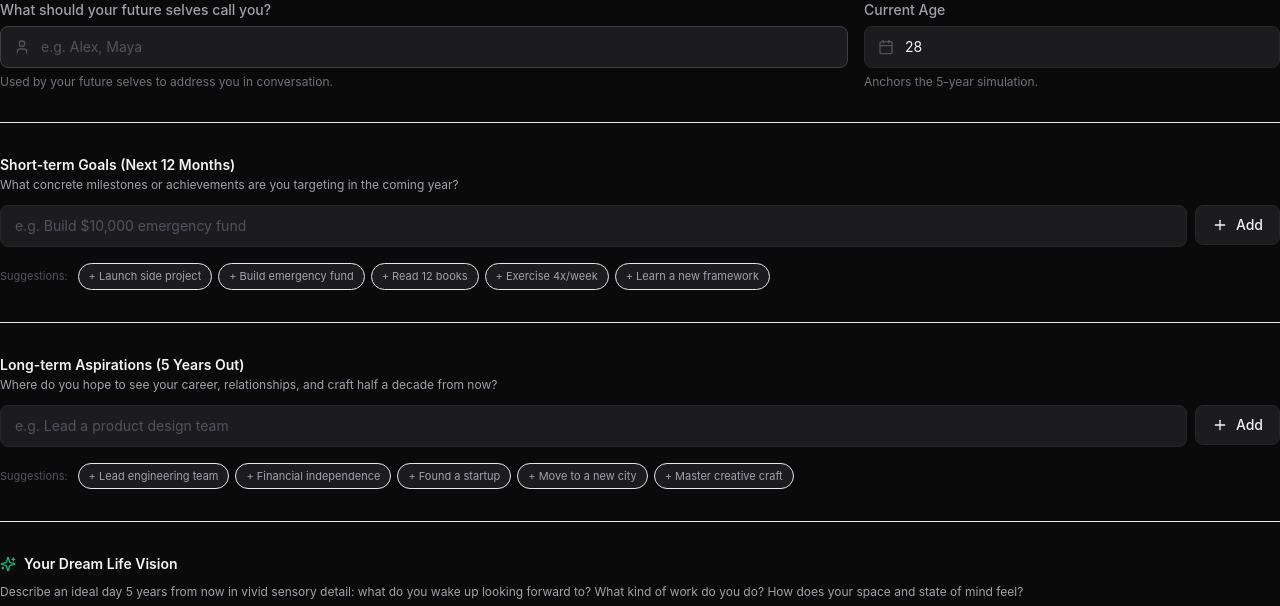
GoalsStep Component › adds short-term goals on enter key and clicking add button
This screenshot has width=1280, height=606.
Type "Run 10km weekly" into the field named "add short-term goal" at {"x": 593, "y": 226}, box [0, 205, 1187, 247]
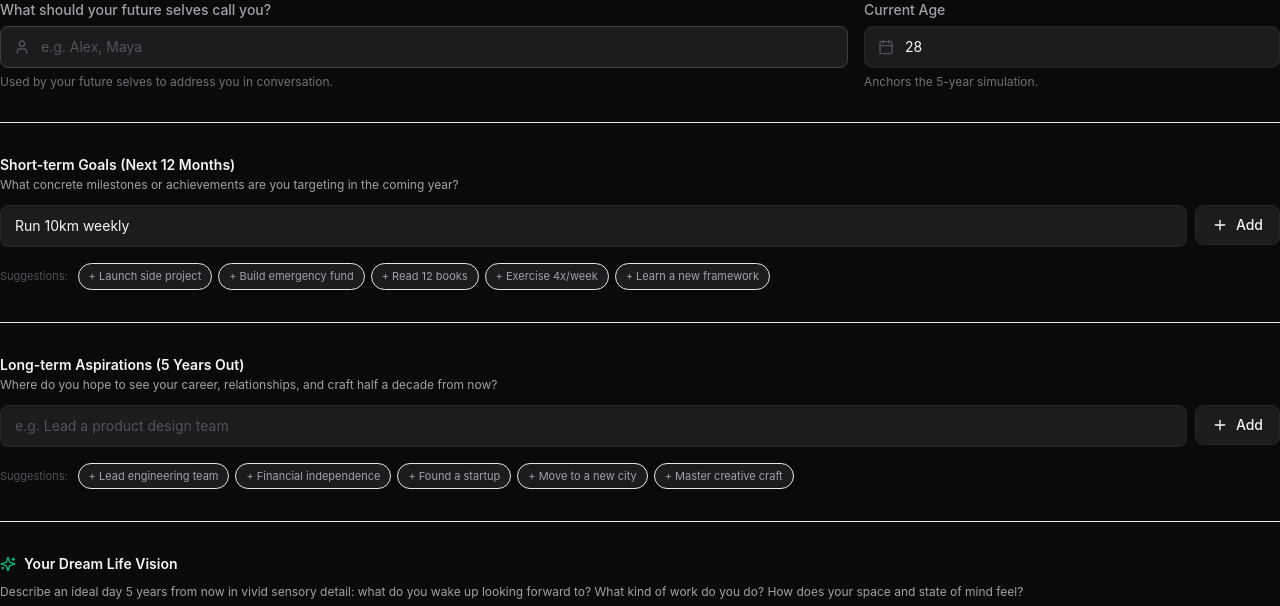
Click the button with aria-label "add short term goal to list" at {"x": 1237, "y": 225}, box [1195, 205, 1279, 245]
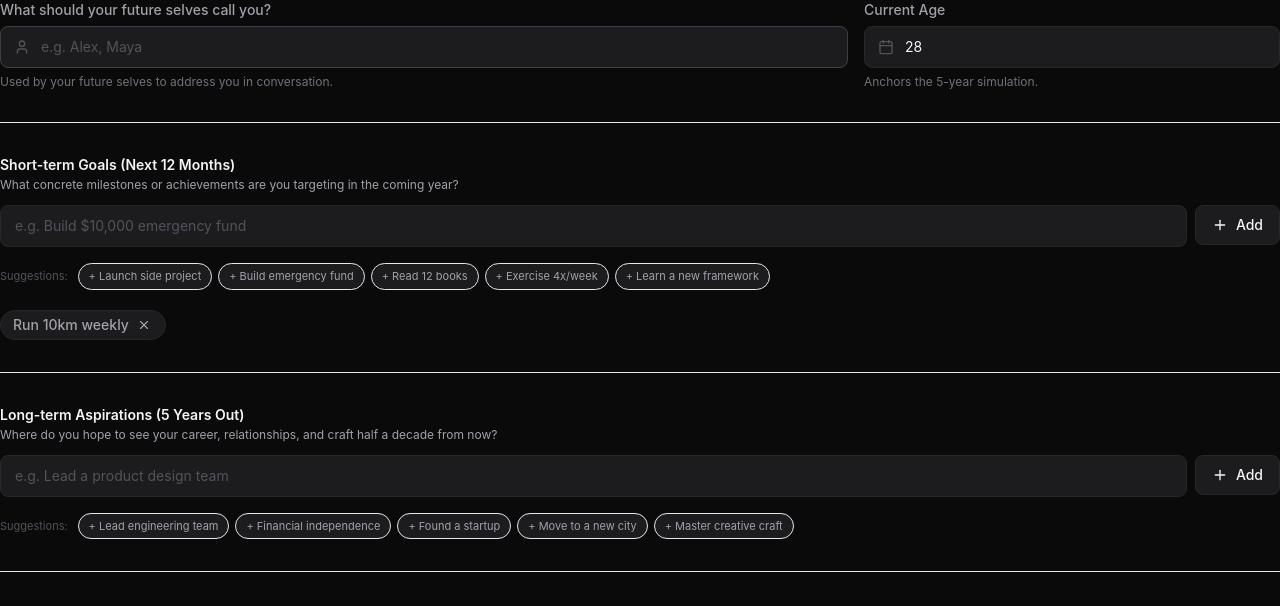
Expected: the text "Run 10km weekly" is shown, [13, 314, 129, 334]
Add with Enter key
Type "Read 20 books" into the field named "add short-term goal" at {"x": 593, "y": 226}, box [0, 205, 1187, 247]
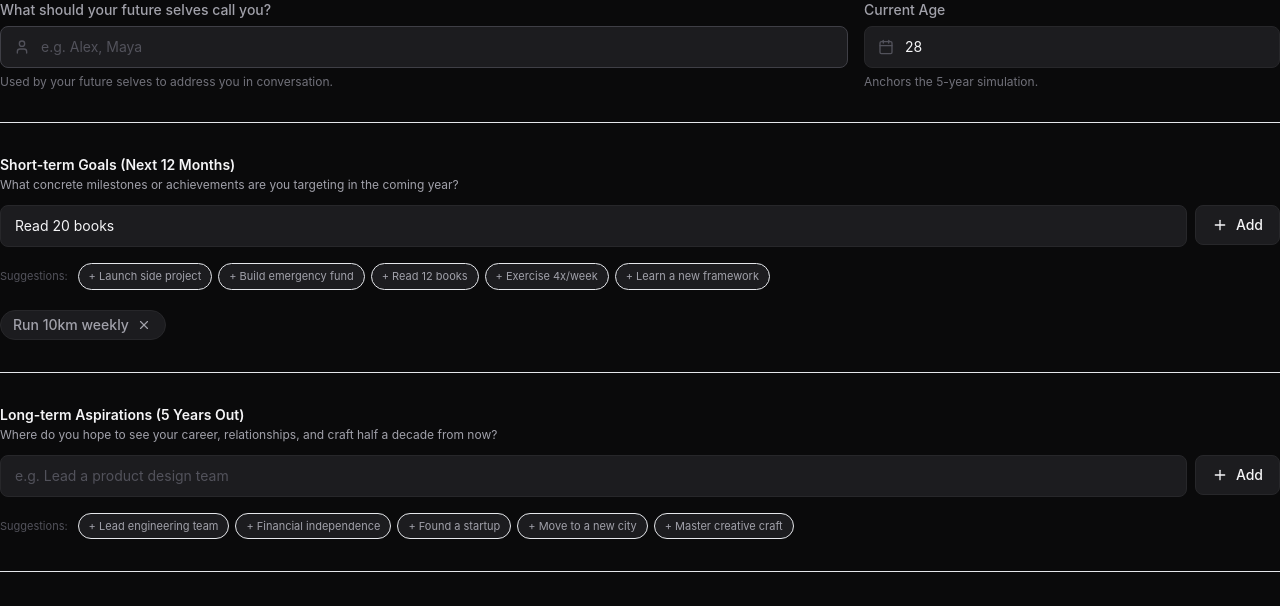
Press Enter in the field named "add short-term goal", box [0, 205, 1187, 247]
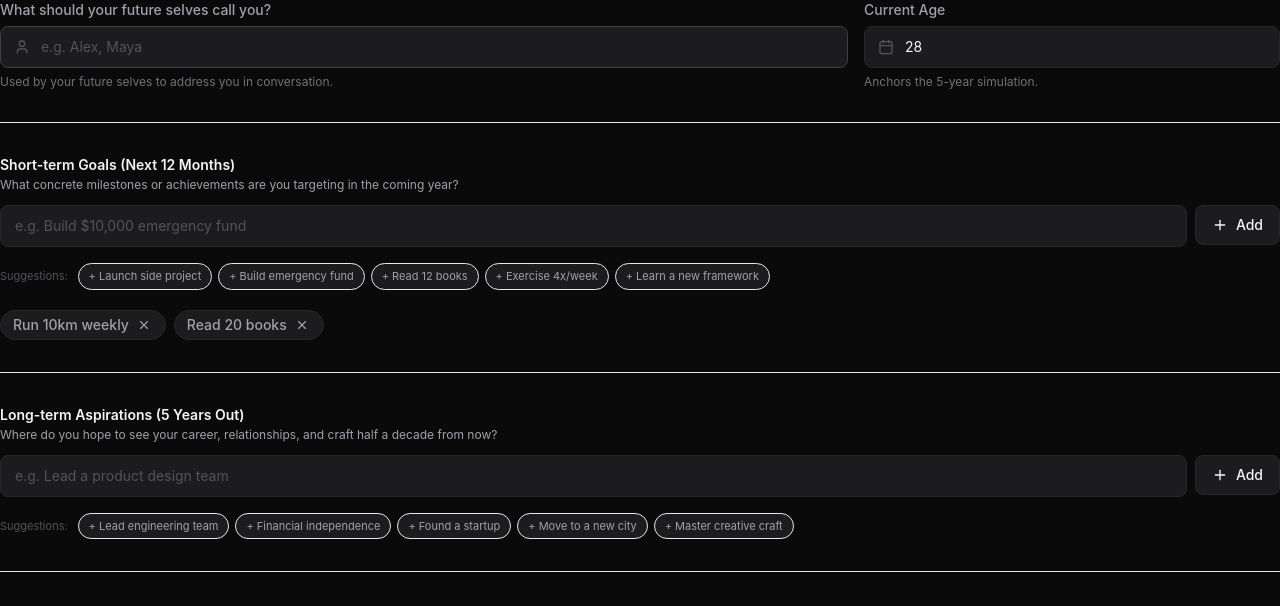
Expected: the text "Read 20 books" is shown, [187, 314, 287, 334]
